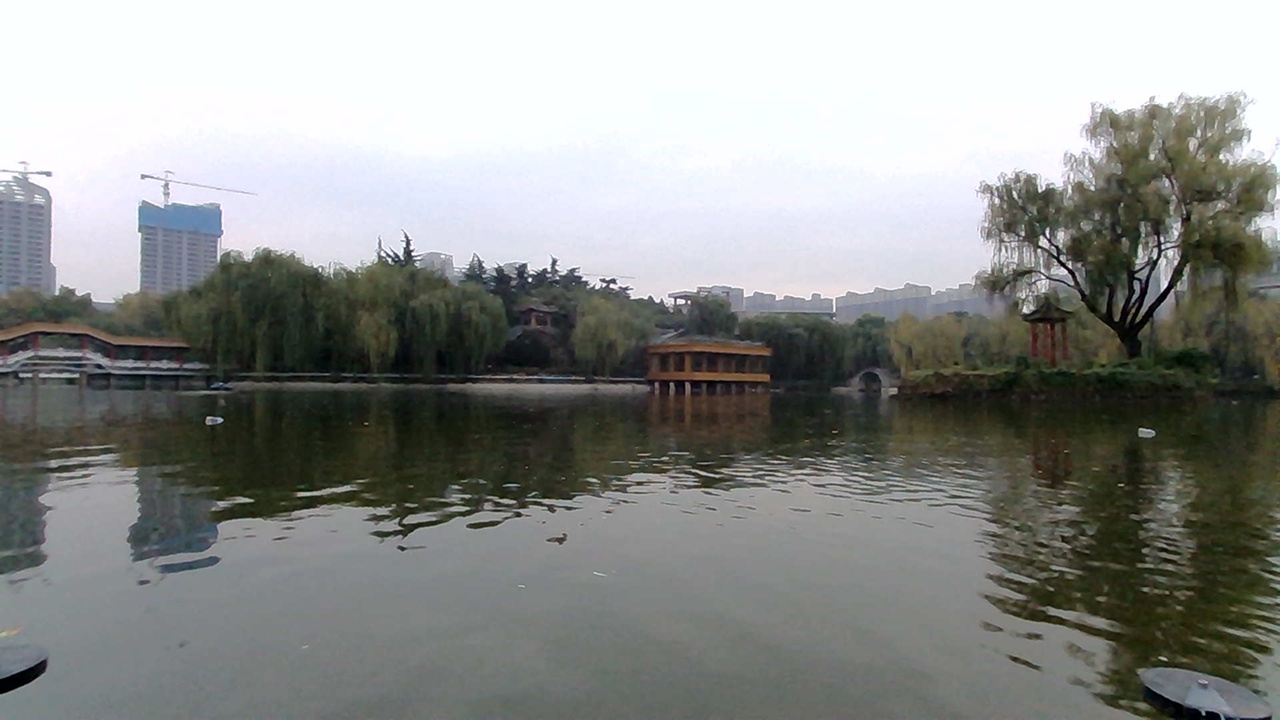bottle: (1126, 417, 1172, 451), (197, 408, 242, 432)
